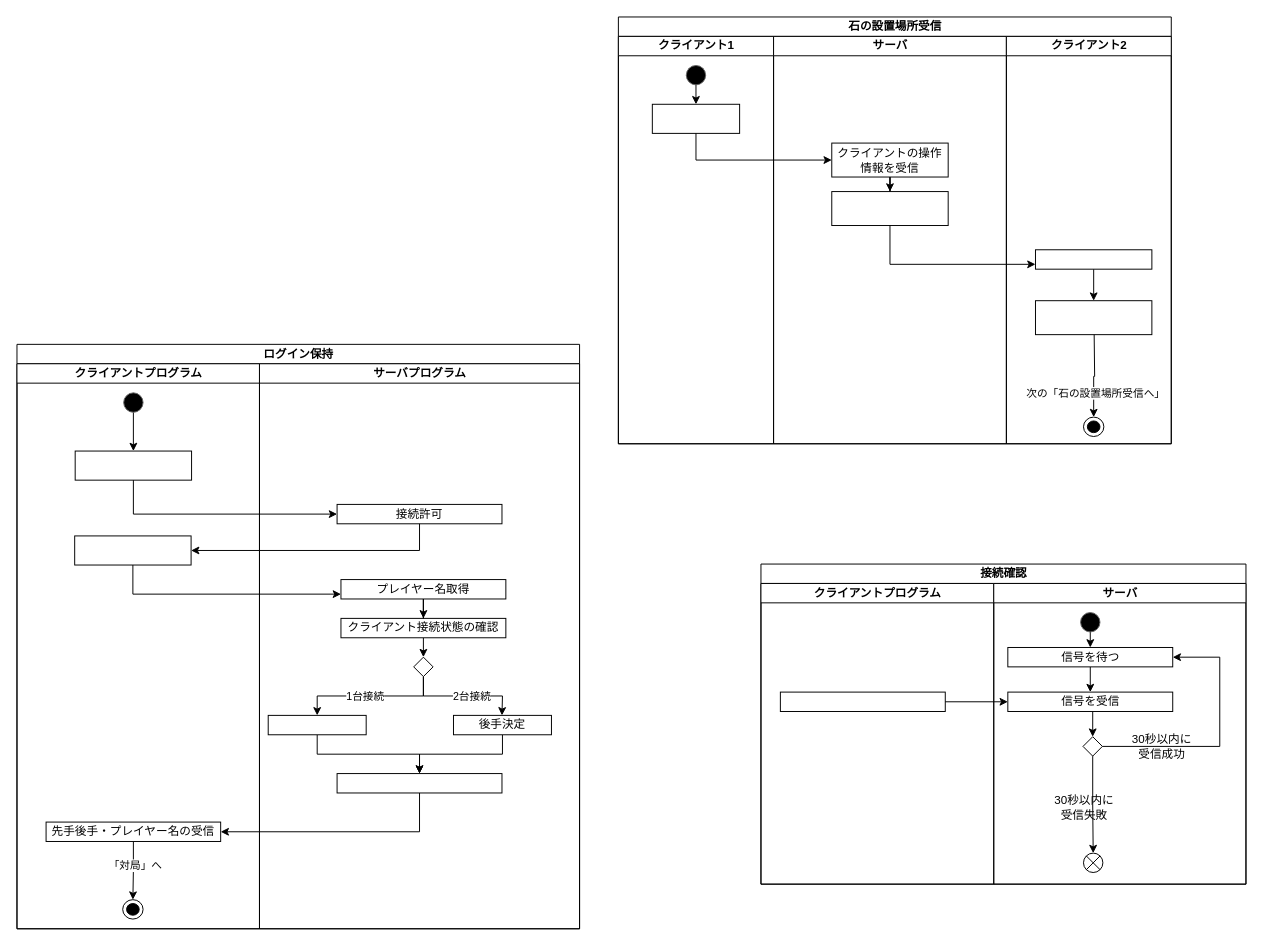
The diagram is 1263 pixels wide and 946 high, and some of its shapes have lost their labels. The centre of each missing label's shape, as x and y in pixels:
5秒に1回信号を受信: the point at 862,701
サーバに接続要求: the point at 133,465
プレイヤー名送信: the point at 132,550
先手後手・プレイヤー名送信: the point at 419,783
先手決定: the point at 316,724
入力情報を送信: the point at 695,118
操作情報を相手へ 送信: the point at 889,208
相手の操作情報をクライアントへ送信: the point at 1093,317
相手の操作情報受信: the point at 1093,259
